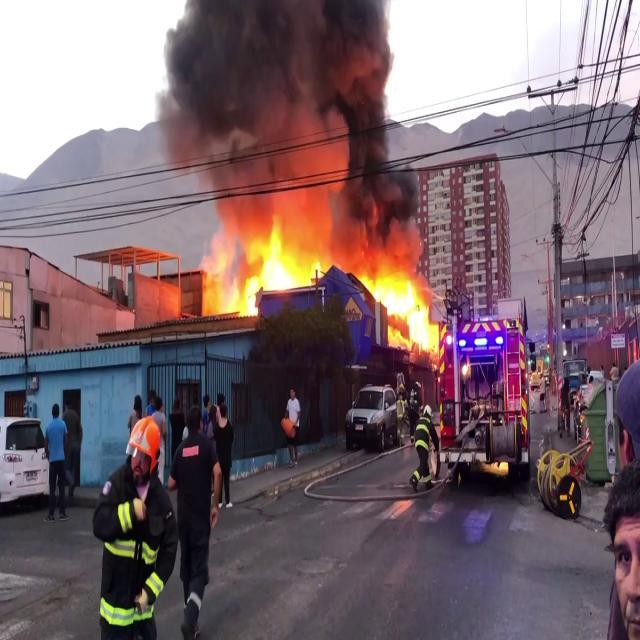Fire: (200, 210, 330, 318), (366, 264, 442, 358)
Smoke: (140, 0, 424, 230)
